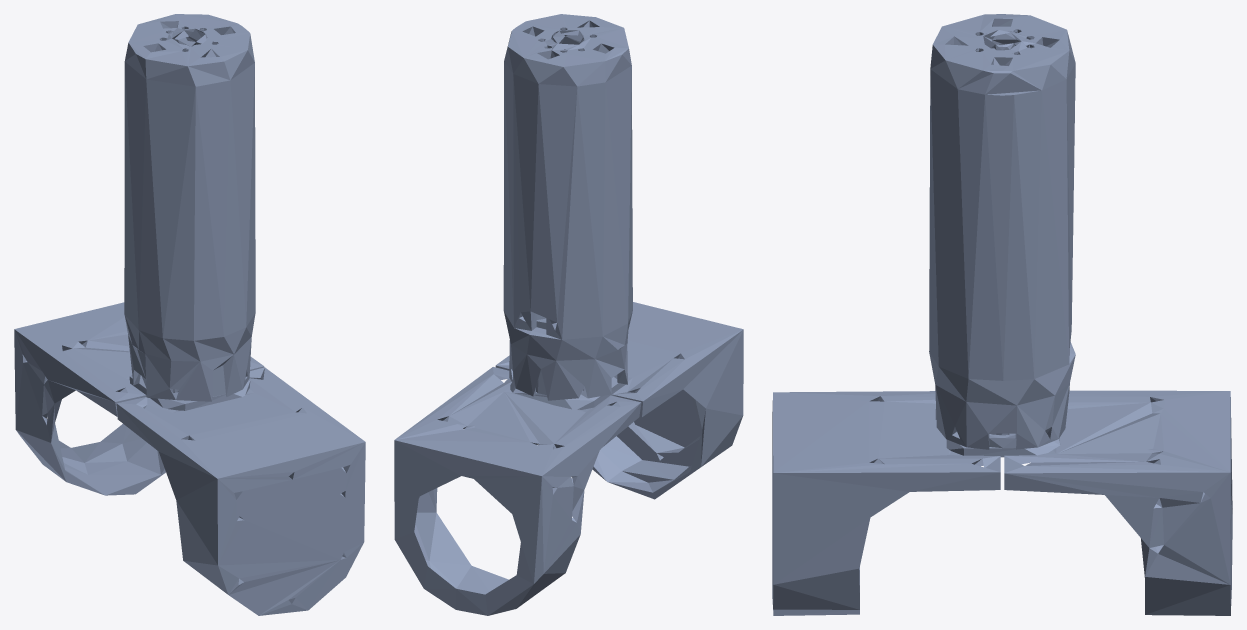
Rendered from l_shoulder_scapula.dae.
3 views of the same model, side by side, from view 1: azimuth 30°, elevation 25°; view 2: azimuth 150°, elevation 25°; view 3: azimuth 270°, elevation 25° (orthographic). The views are drawn at different scales.
Parts seen in each view (by area): view 1: M0L; view 2: M0L; view 3: M0L.
Part boxes in pixels (left/top/right/bottom): M0L: left=14, top=14, right=365, bottom=615; M0L: left=394, top=14, right=743, bottom=615; M0L: left=772, top=14, right=1232, bottom=615.
Bounding box in the file's own units: 0.0561 × 0.131 × 0.1796.
